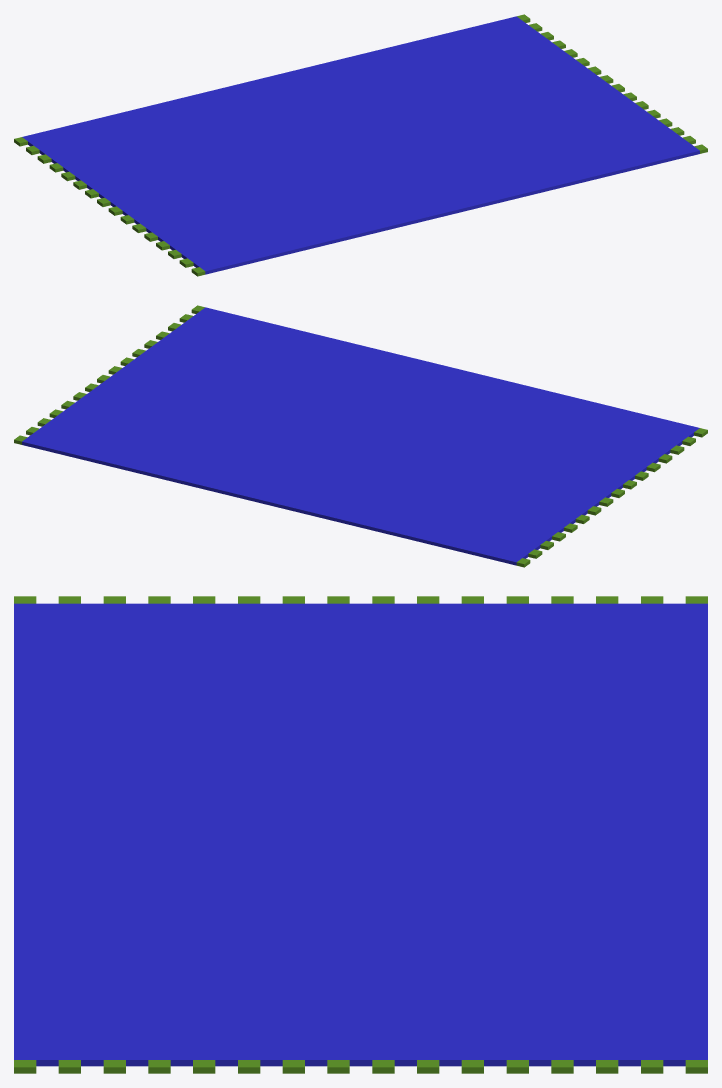
File: Rug.FBX
3 renders of one model, top to bottom at view 1: azimuth 30°, elevation 25°; view 2: azimuth 150°, elevation 25°; view 3: azimuth 270°, elevation 25°, orthographic. The views are drawn at different scales.
Visible parts, largest first — view 1: Rug; view 2: Rug; view 3: Rug.
Part boxes in pixels (x1,y1,x2,y2): Rug: (14, 14, 707, 276); Rug: (14, 305, 707, 567); Rug: (14, 596, 707, 1073).
Bounding box in the file's own units: 3.21 × 0.02 × 2.
